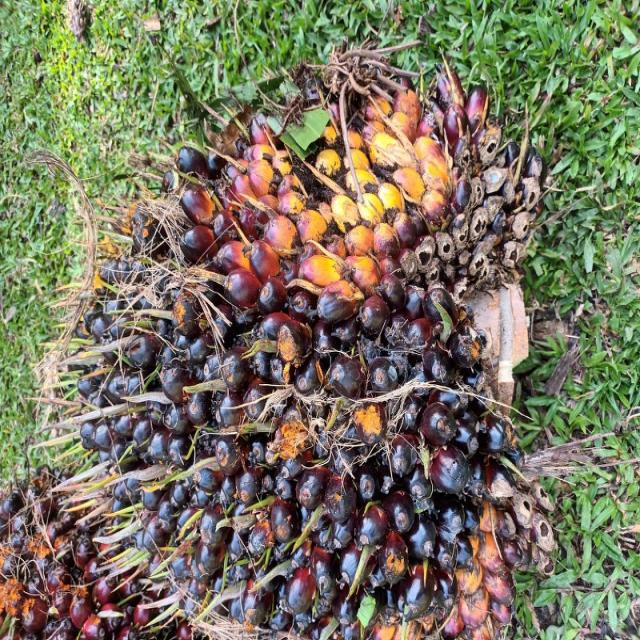fraksi 1: (4, 59, 430, 640)
